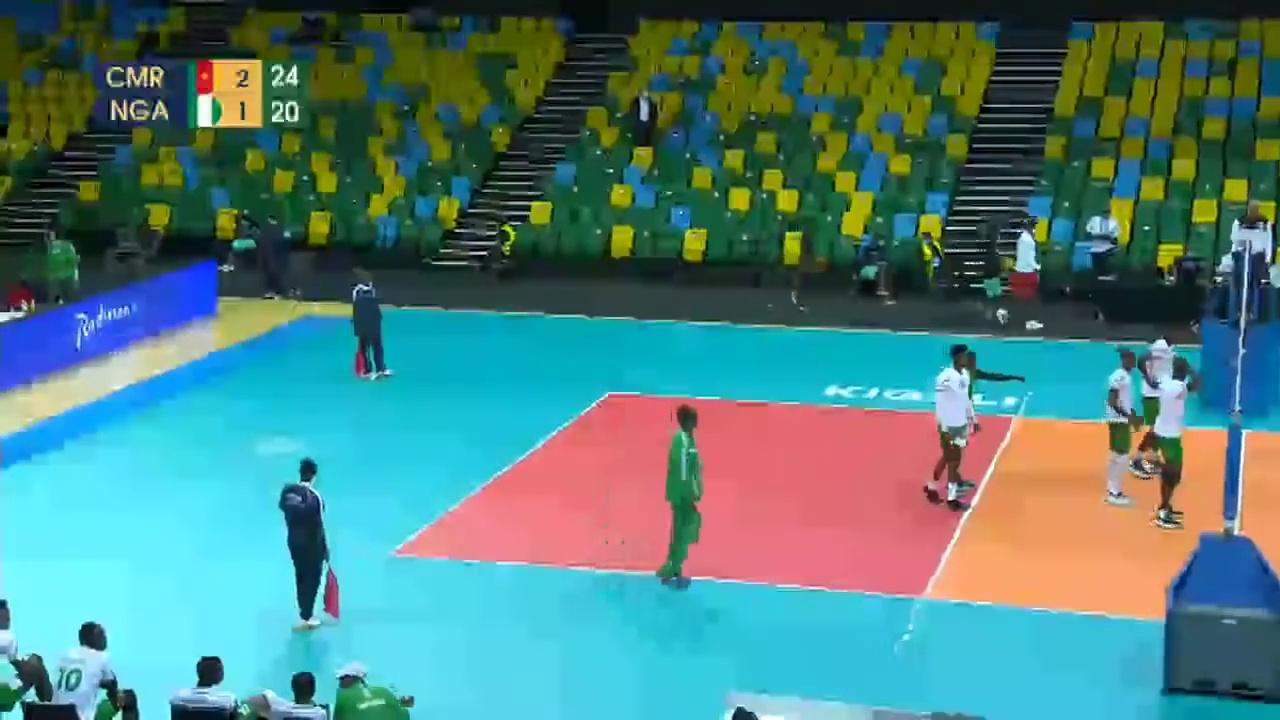player: (936, 348, 1015, 493), (1128, 311, 1182, 479), (927, 341, 970, 522), (1156, 360, 1199, 539), (1091, 346, 1137, 510)
refree: (281, 462, 343, 625), (1230, 199, 1274, 313), (351, 271, 392, 378)
